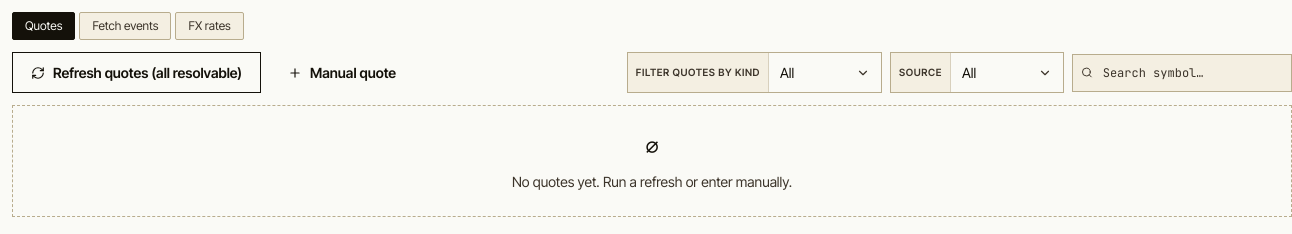
InstrumentsMarketData — fetch events › renders fetch events table with name, symbol, valuation_date, source
Click the tab "Fetch events" at (125, 26), box [79,12,171,40]
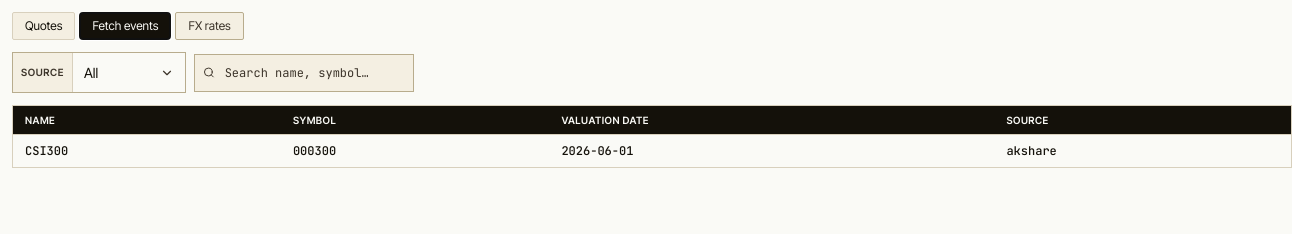
expect the text "CSI300" is shown: met, box [13,134,281,167]
expect the text "000300" is shown: met, box [281,134,549,167]
expect the text "2026-06-01" is shown: met, box [549,134,994,167]
